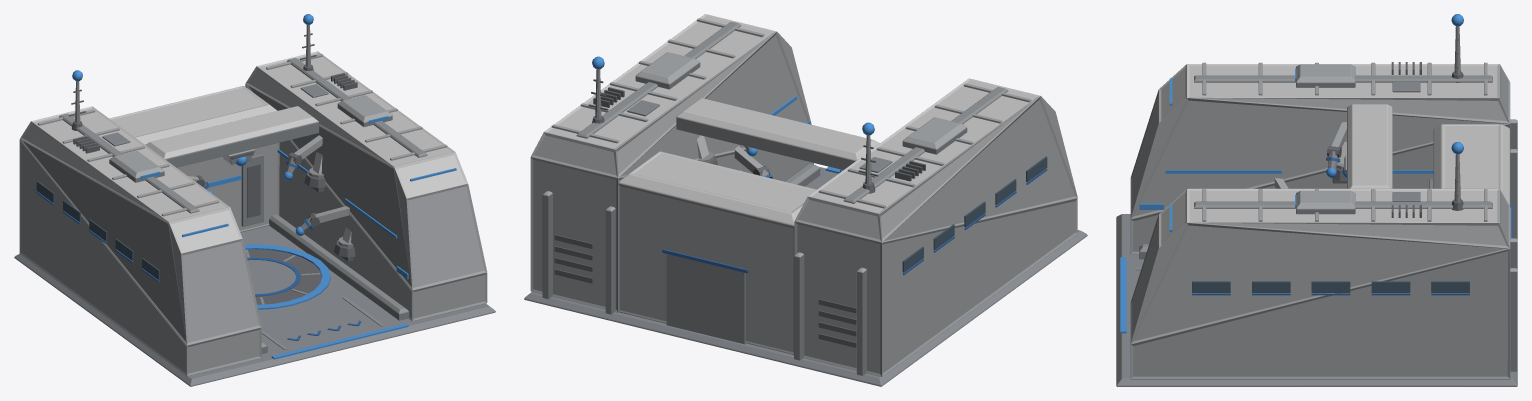
Rendered from lattice_bot_lab.glb.
3 renders of one model, left to right at view 1: azimuth 30°, elevation 25°; view 2: azimuth 150°, elevation 25°; view 3: azimuth 270°, elevation 25°, orthographic. The views are drawn at different scales.
Parts seen in each view (by area): view 1: Body; view 2: Body; view 3: Body.
Part boxes in pixels (x1=…): Body: x1=14, y1=14, x2=495, y2=386; Body: x1=524, y1=14, x2=1087, y2=386; Body: x1=1116, y1=14, x2=1517, y2=386.
Bounding box in the file's own units: 22.8 × 14.06 × 22.8.
